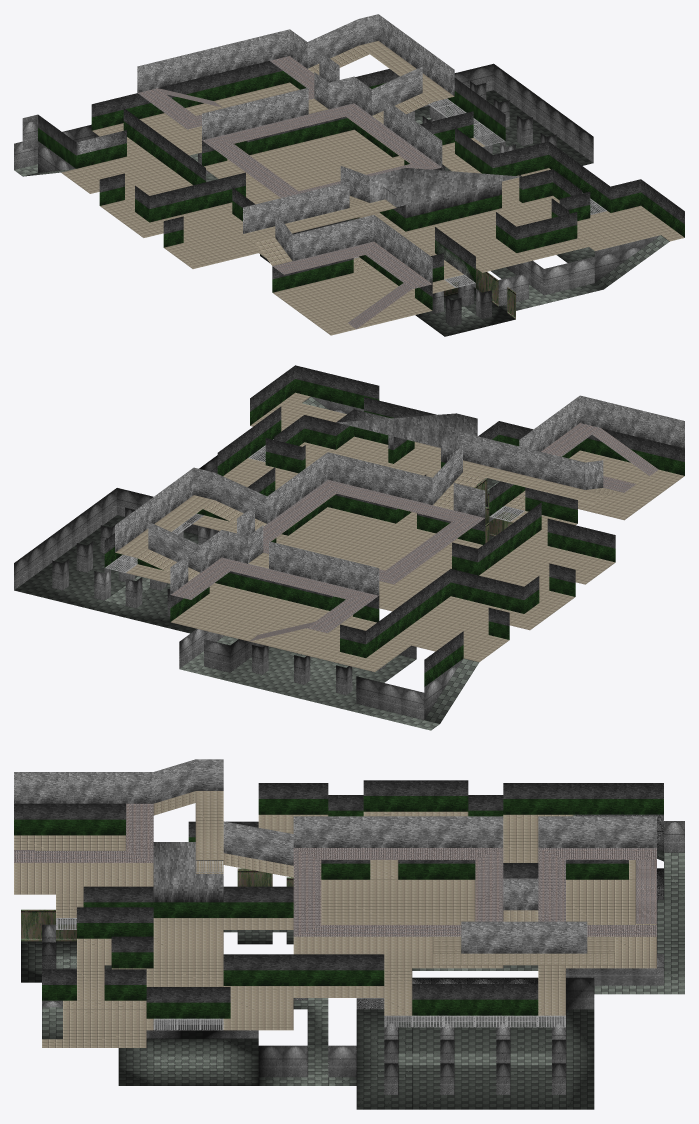
File: Library.glb
The picture shows the model from 3 angles, top to bottom: view 1: azimuth 30°, elevation 25°; view 2: azimuth 150°, elevation 25°; view 3: azimuth 270°, elevation 25°; orthographic projection. The views are drawn at different scales.
Parts seen in each view (by area): view 1: Library_0, Library_1, Library_4, Library_2, Library_6, Library_Alpha_5, Library_9; view 2: Library_0, Library_1, Library_4, Library_6, Library_2, Library_Alpha_5, Library_9; view 3: Library_0, Library_1, Library_6, Library_2, Library_4, Library_Alpha_5, Library_9.
Boxes of the visible parts, x1=… form: Library_0: x1=38, y1=14, x2=684, y2=310; Library_1: x1=61, y1=41, x2=684, y2=335; Library_4: x1=14, y1=63, x2=660, y2=326; Library_2: x1=138, y1=56, x2=441, y2=329; Library_6: x1=14, y1=90, x2=669, y2=336; Library_Alpha_5: x1=353, y1=98, x2=606, y2=287; Library_9: x1=260, y1=217, x2=515, y2=318; Library_0: x1=104, y1=365, x2=684, y2=686; Library_1: x1=115, y1=392, x2=684, y2=671; Library_4: x1=14, y1=396, x2=522, y2=719; Library_6: x1=14, y1=397, x2=499, y2=730; Library_2: x1=170, y1=423, x2=658, y2=641; Library_Alpha_5: x1=105, y1=439, x2=524, y2=572; Library_9: x1=474, y1=478, x2=517, y2=543; Library_0: x1=14, y1=759, x2=663, y2=1018; Library_1: x1=14, y1=791, x2=656, y2=1047; Library_6: x1=21, y1=815, x2=684, y2=1109; Library_2: x1=14, y1=803, x2=656, y2=936; Library_4: x1=42, y1=814, x2=684, y2=1094; Library_Alpha_5: x1=56, y1=918, x2=565, y2=1030; Library_9: x1=21, y1=868, x2=293, y2=941.
Bounding box in the file's own units: 417 × 85.25 × 455.
Materials: 13 (13 with a texture image).
